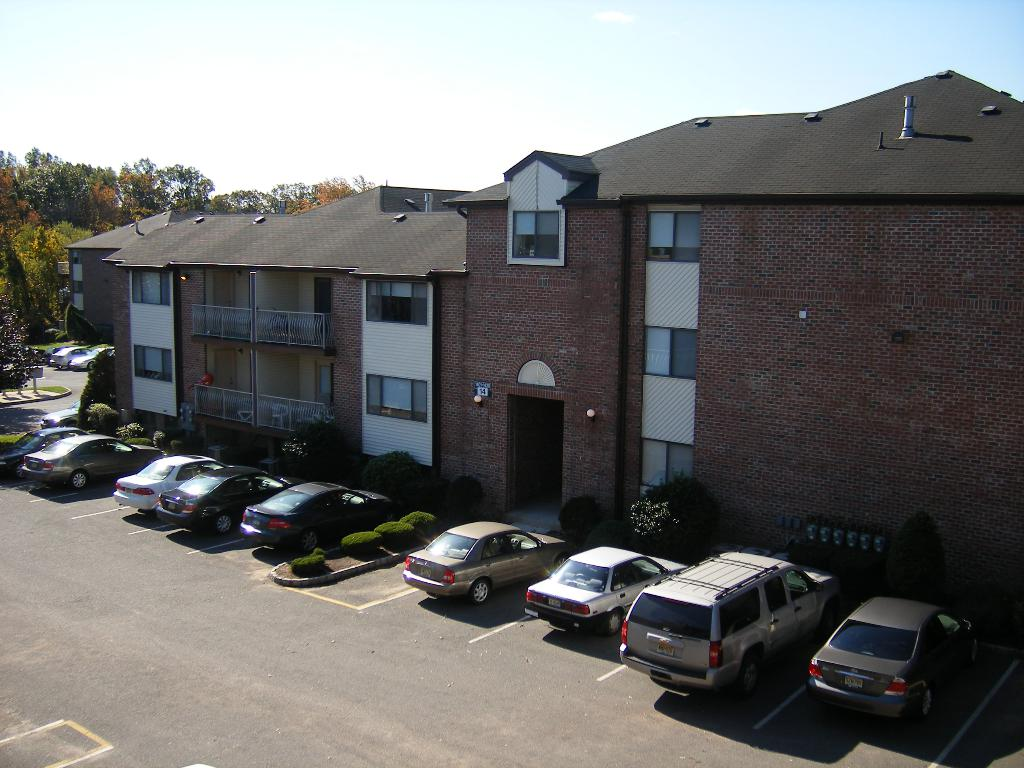mobil: (610, 548, 828, 715), (795, 586, 980, 730), (406, 513, 571, 589), (152, 466, 294, 545), (244, 476, 403, 542), (530, 545, 677, 616), (32, 428, 146, 499)
